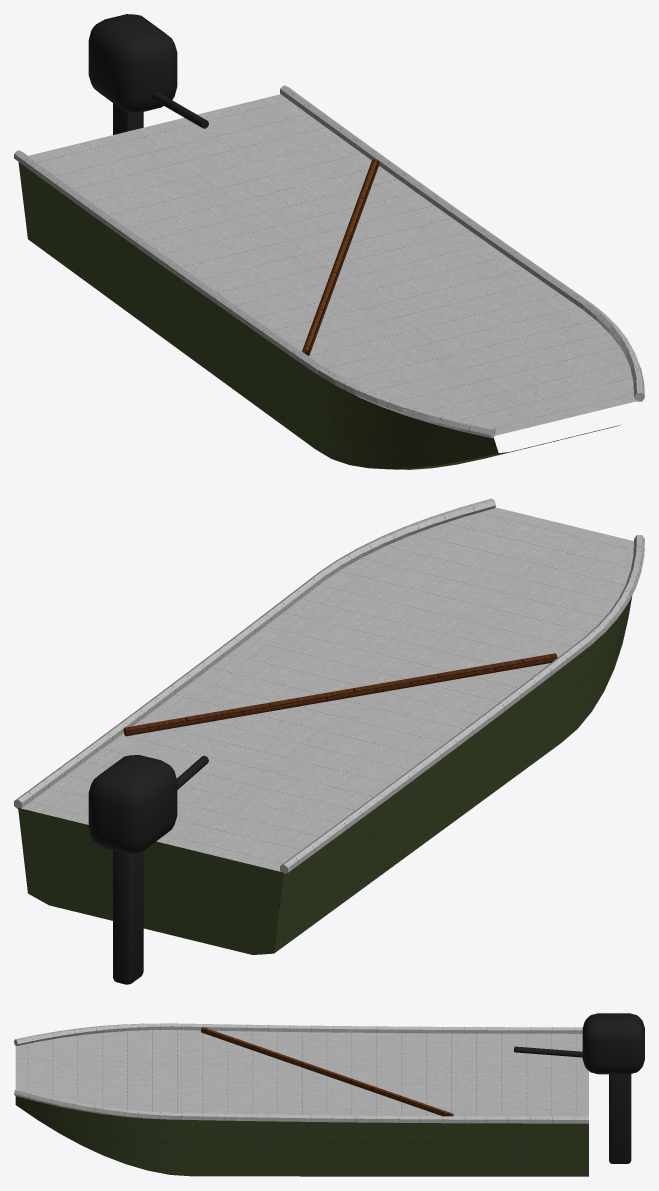
Rendered from skiff-1.glb.
3 renders of one model, top to bottom at view 1: azimuth 30°, elevation 25°; view 2: azimuth 150°, elevation 25°; view 3: azimuth 270°, elevation 25°, orthographic. The views are drawn at different scales.
Visible parts, largest first — view 1: skiff-1; view 2: skiff-1; view 3: skiff-1.
Boxes of the visible parts, x1,y1,x2,y2 form: skiff-1: [14, 14, 644, 469]; skiff-1: [14, 498, 644, 984]; skiff-1: [14, 1013, 644, 1176].
Size of the model in its own units: 1.75 by 1.28 by 5.06.
Materials: 4 (3 with a texture image).
